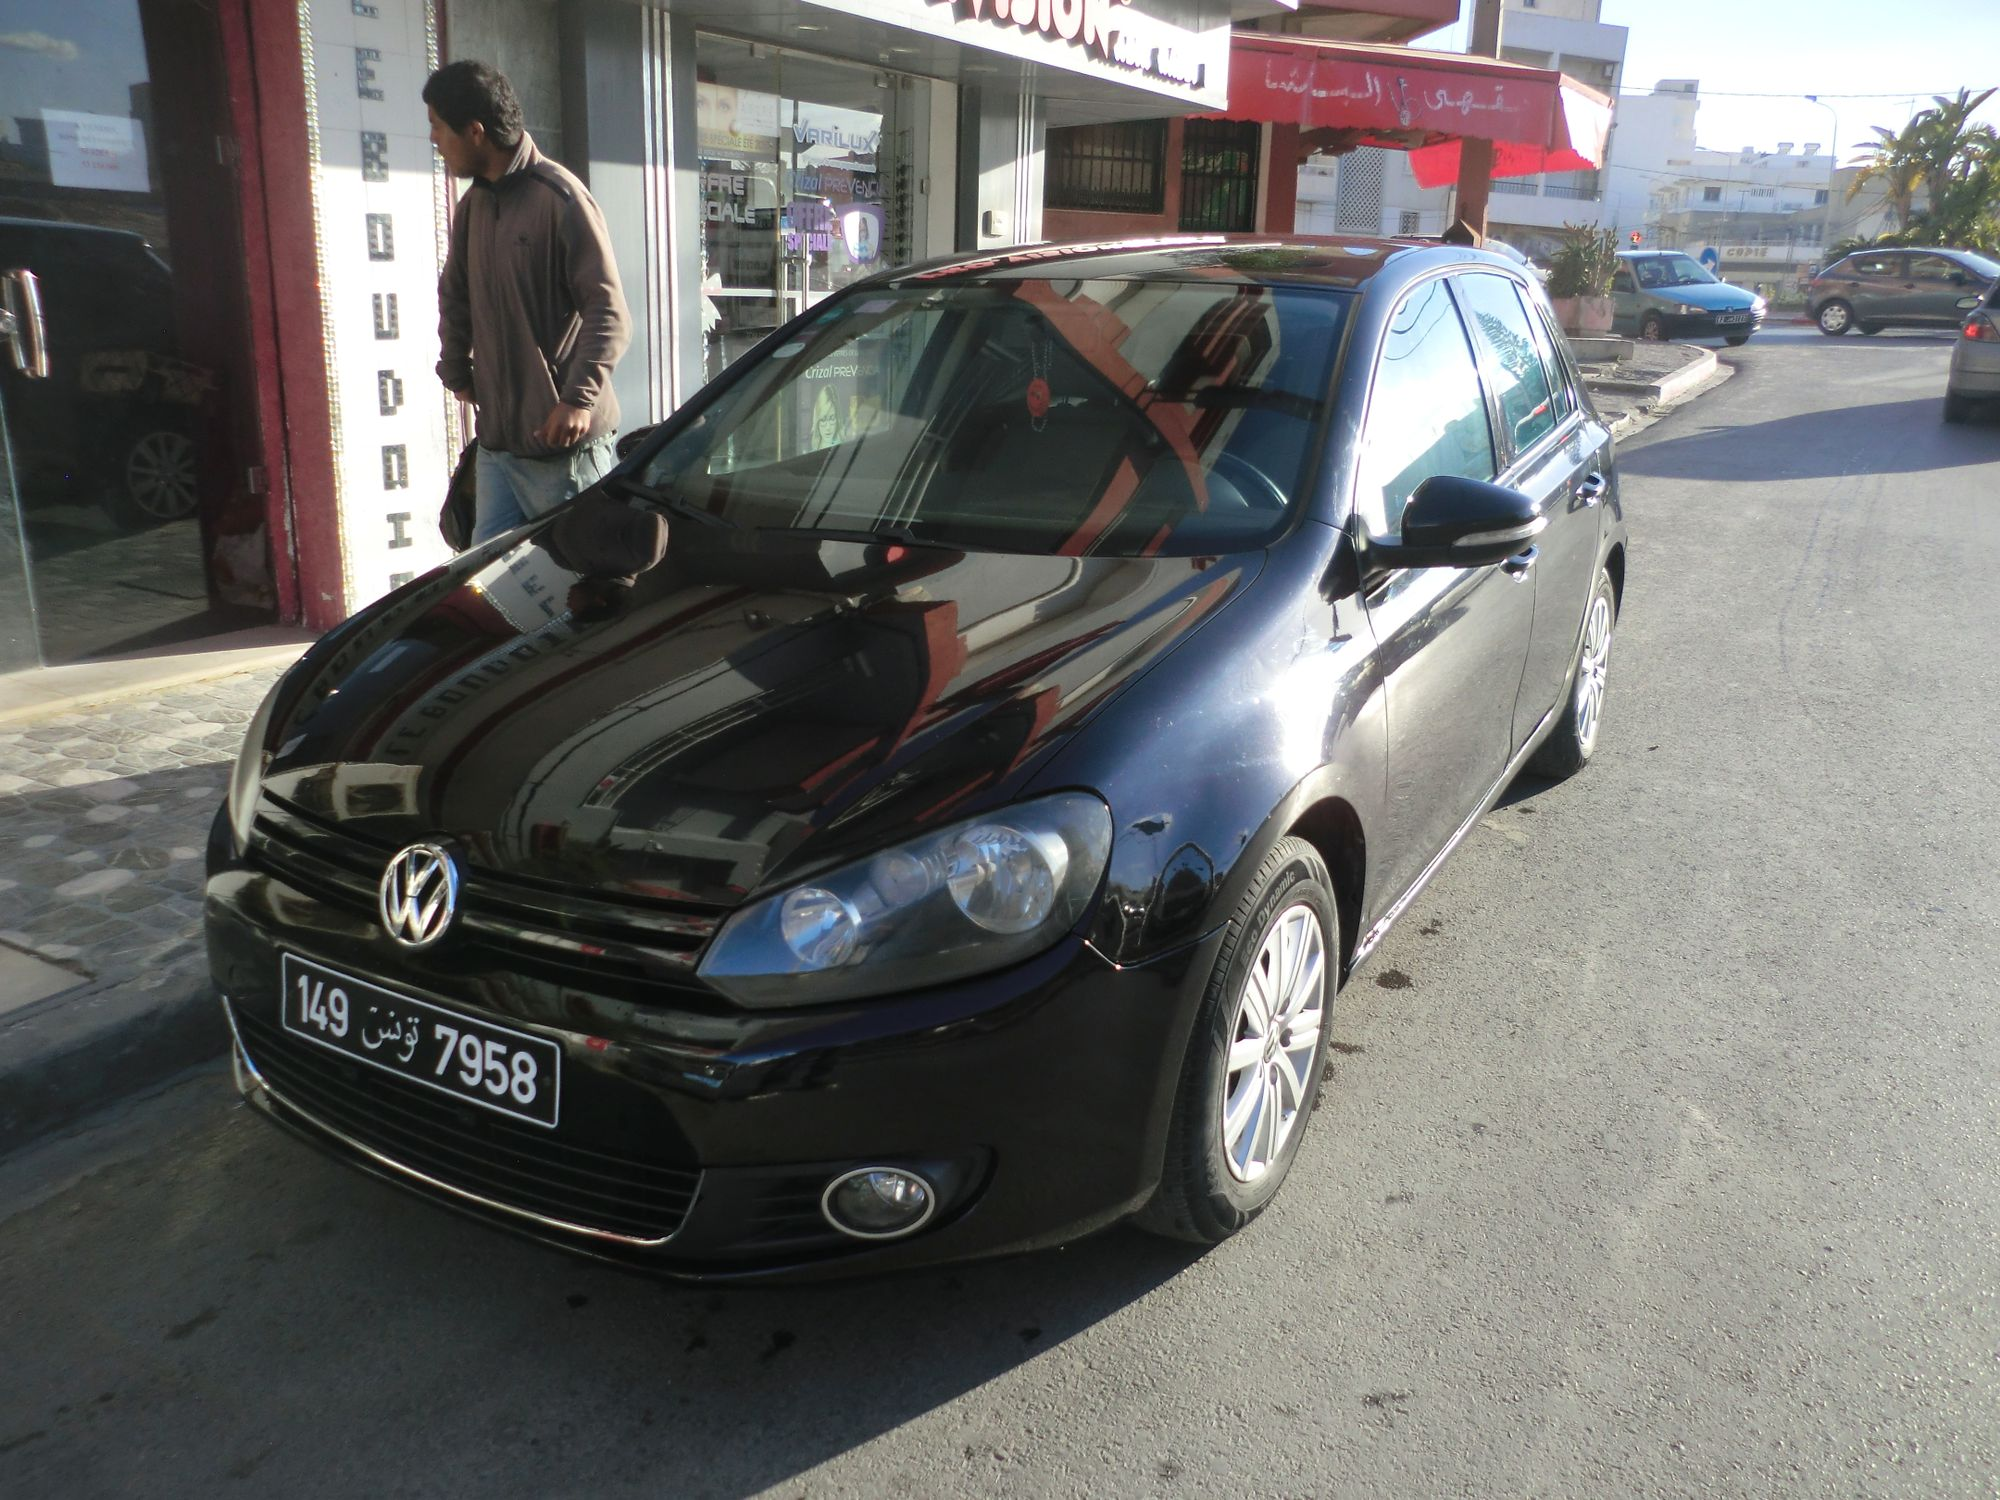LP: (278, 946, 562, 1130)
